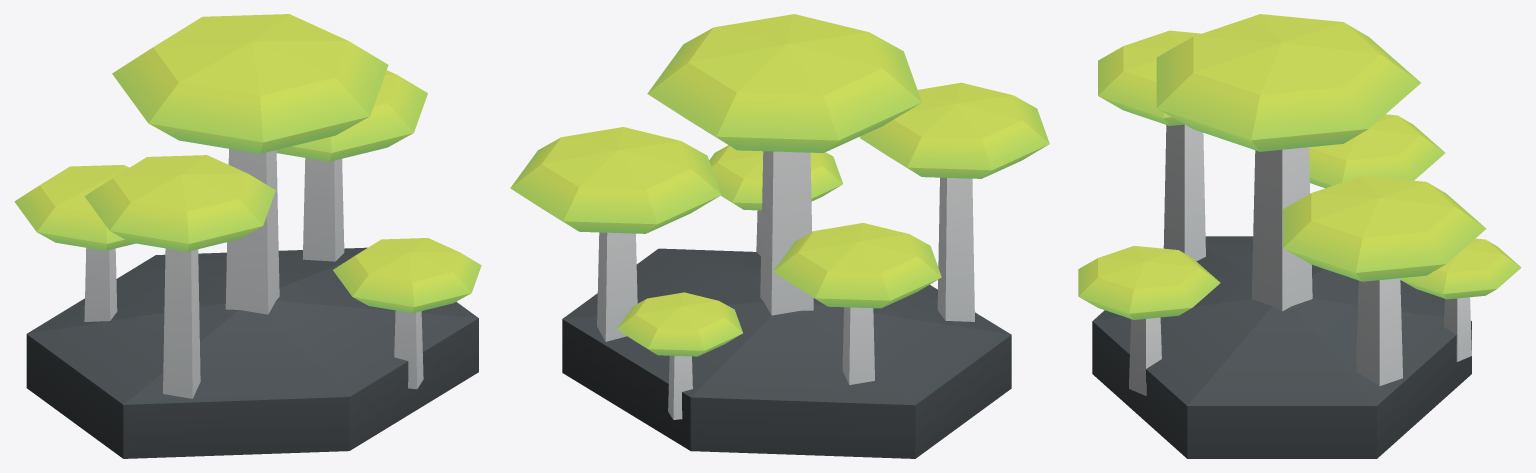
File: sour_fungus.glb
The picture shows the model from 3 angles, left to right: view 1: azimuth 30°, elevation 25°; view 2: azimuth 150°, elevation 25°; view 3: azimuth 270°, elevation 25°; orthographic projection. The views are drawn at different scales.
Visible parts, largest first — view 1: sour_fungus; view 2: sour_fungus; view 3: sour_fungus.
Part boxes in pixels (box(x1,y1,x2,y2)): sour_fungus: box(14, 14, 481, 458); sour_fungus: box(510, 14, 1049, 458); sour_fungus: box(1078, 14, 1521, 458).
Size of the model in its own units: 0.4838 by 0.4055 by 0.4554.
2 materials, 2 textured.
